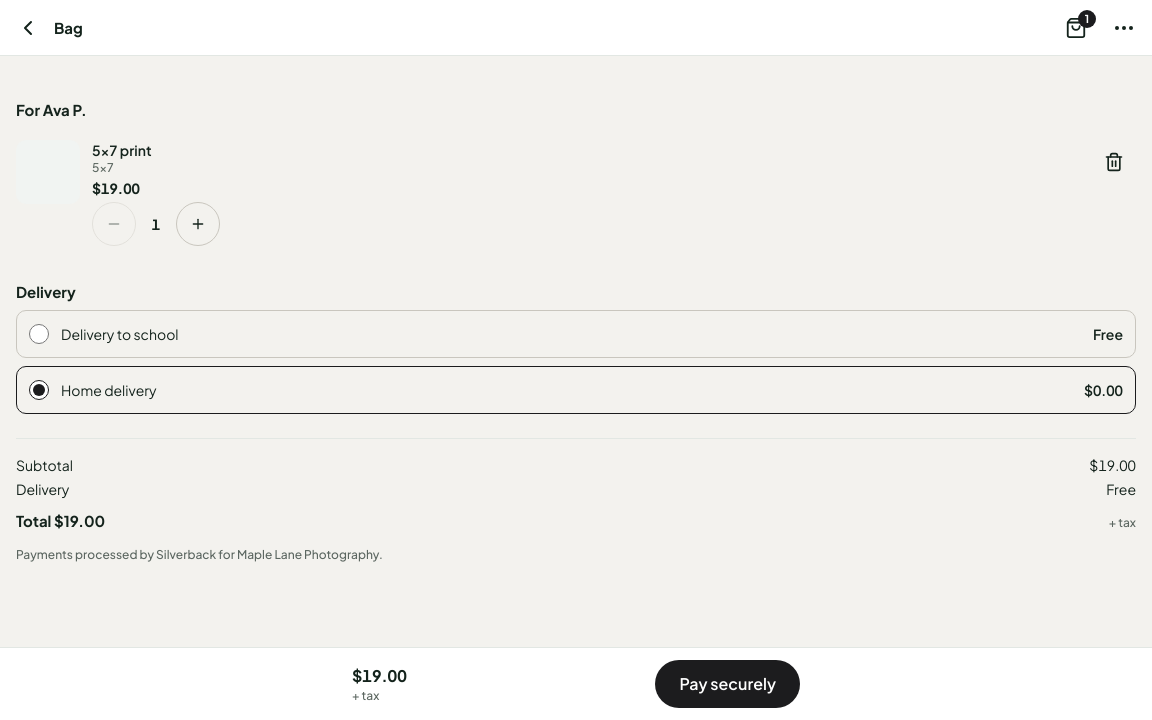
Test: the bag's Pay (ADR 0023 §6) › announces a refusal and reads the bag again
The width and height of the screenshot is (1152, 720).
Step 1. Click the button "Pay securely" → (728, 684), box [655,660,800,708]
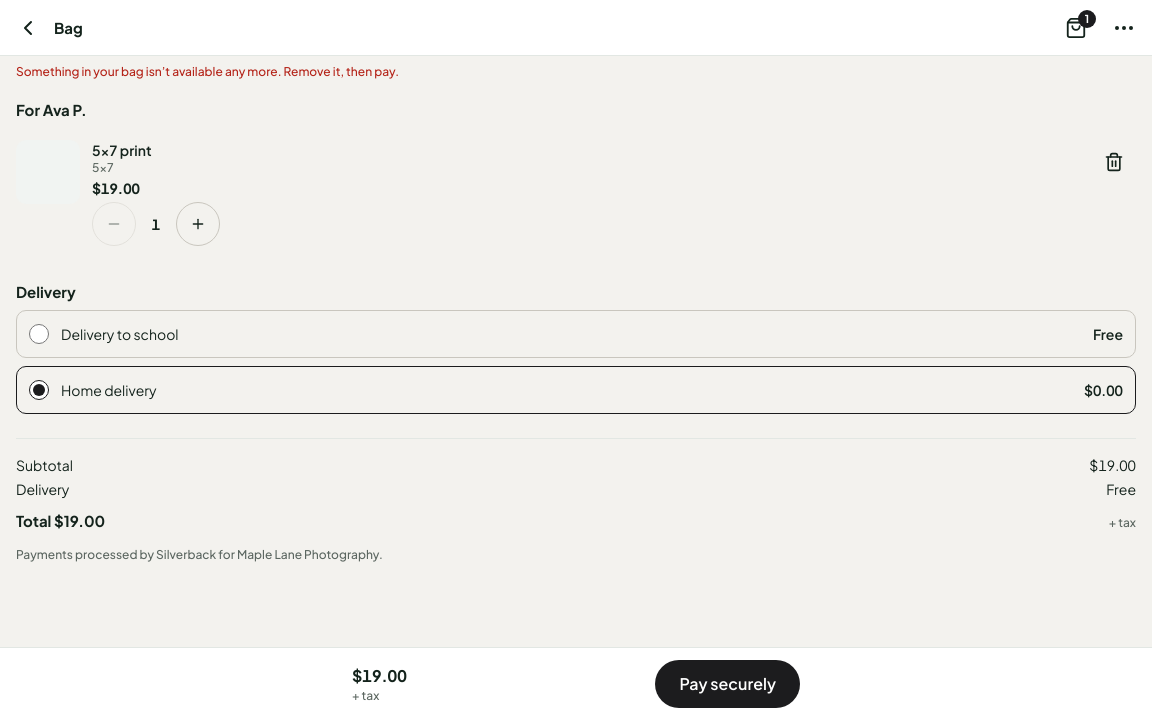
Expected: the message "Something in your bag isn’t available any more. Remove it, then pay." is shown, [16,64,399,79]
